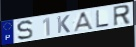1: (42, 17, 51, 37)
A: (72, 11, 95, 33)
K: (57, 14, 71, 35)
L: (95, 10, 110, 29)
R: (113, 4, 132, 28)
S: (16, 19, 34, 41)
